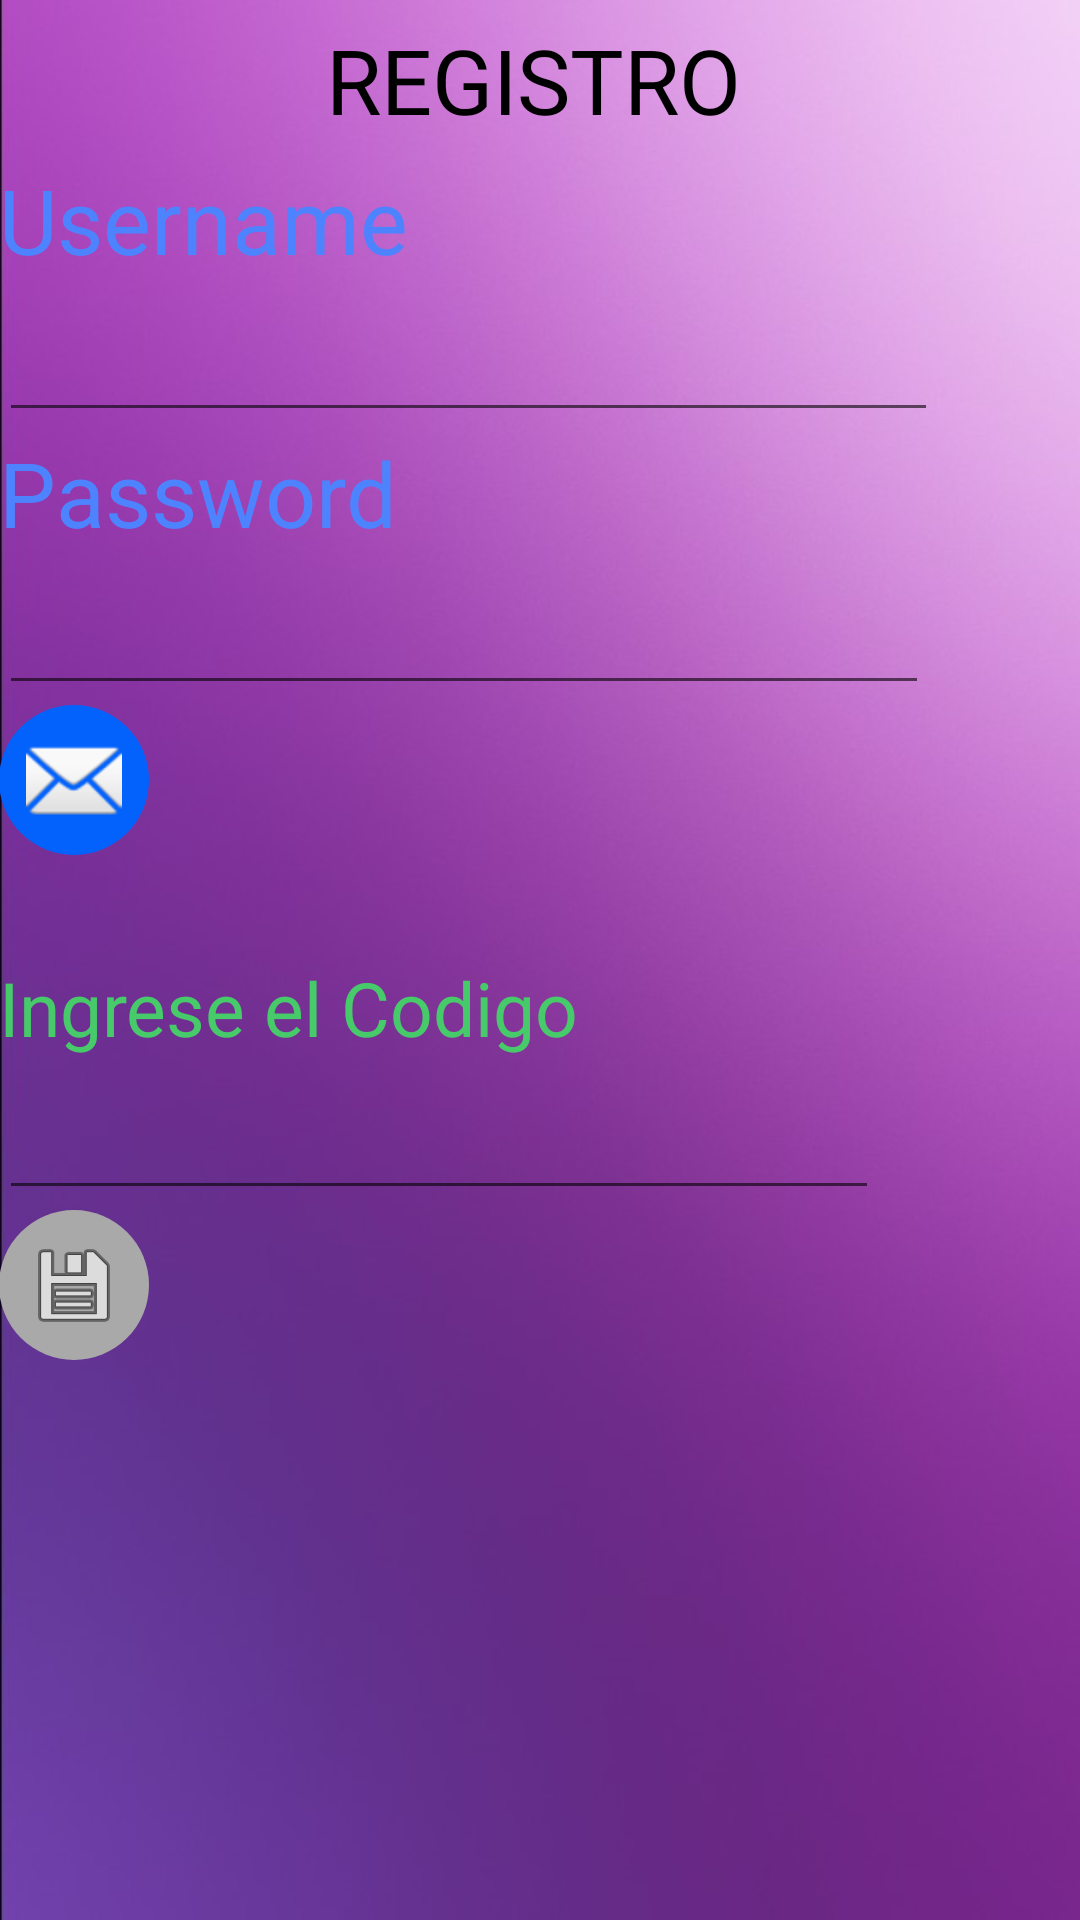

Named icons in this screenshot (1080×1920) and their bounding boxes, bbox=[x1, y1, x2, y2]:
email: bbox=[0, 705, 149, 855]
save: bbox=[0, 1210, 149, 1360]
